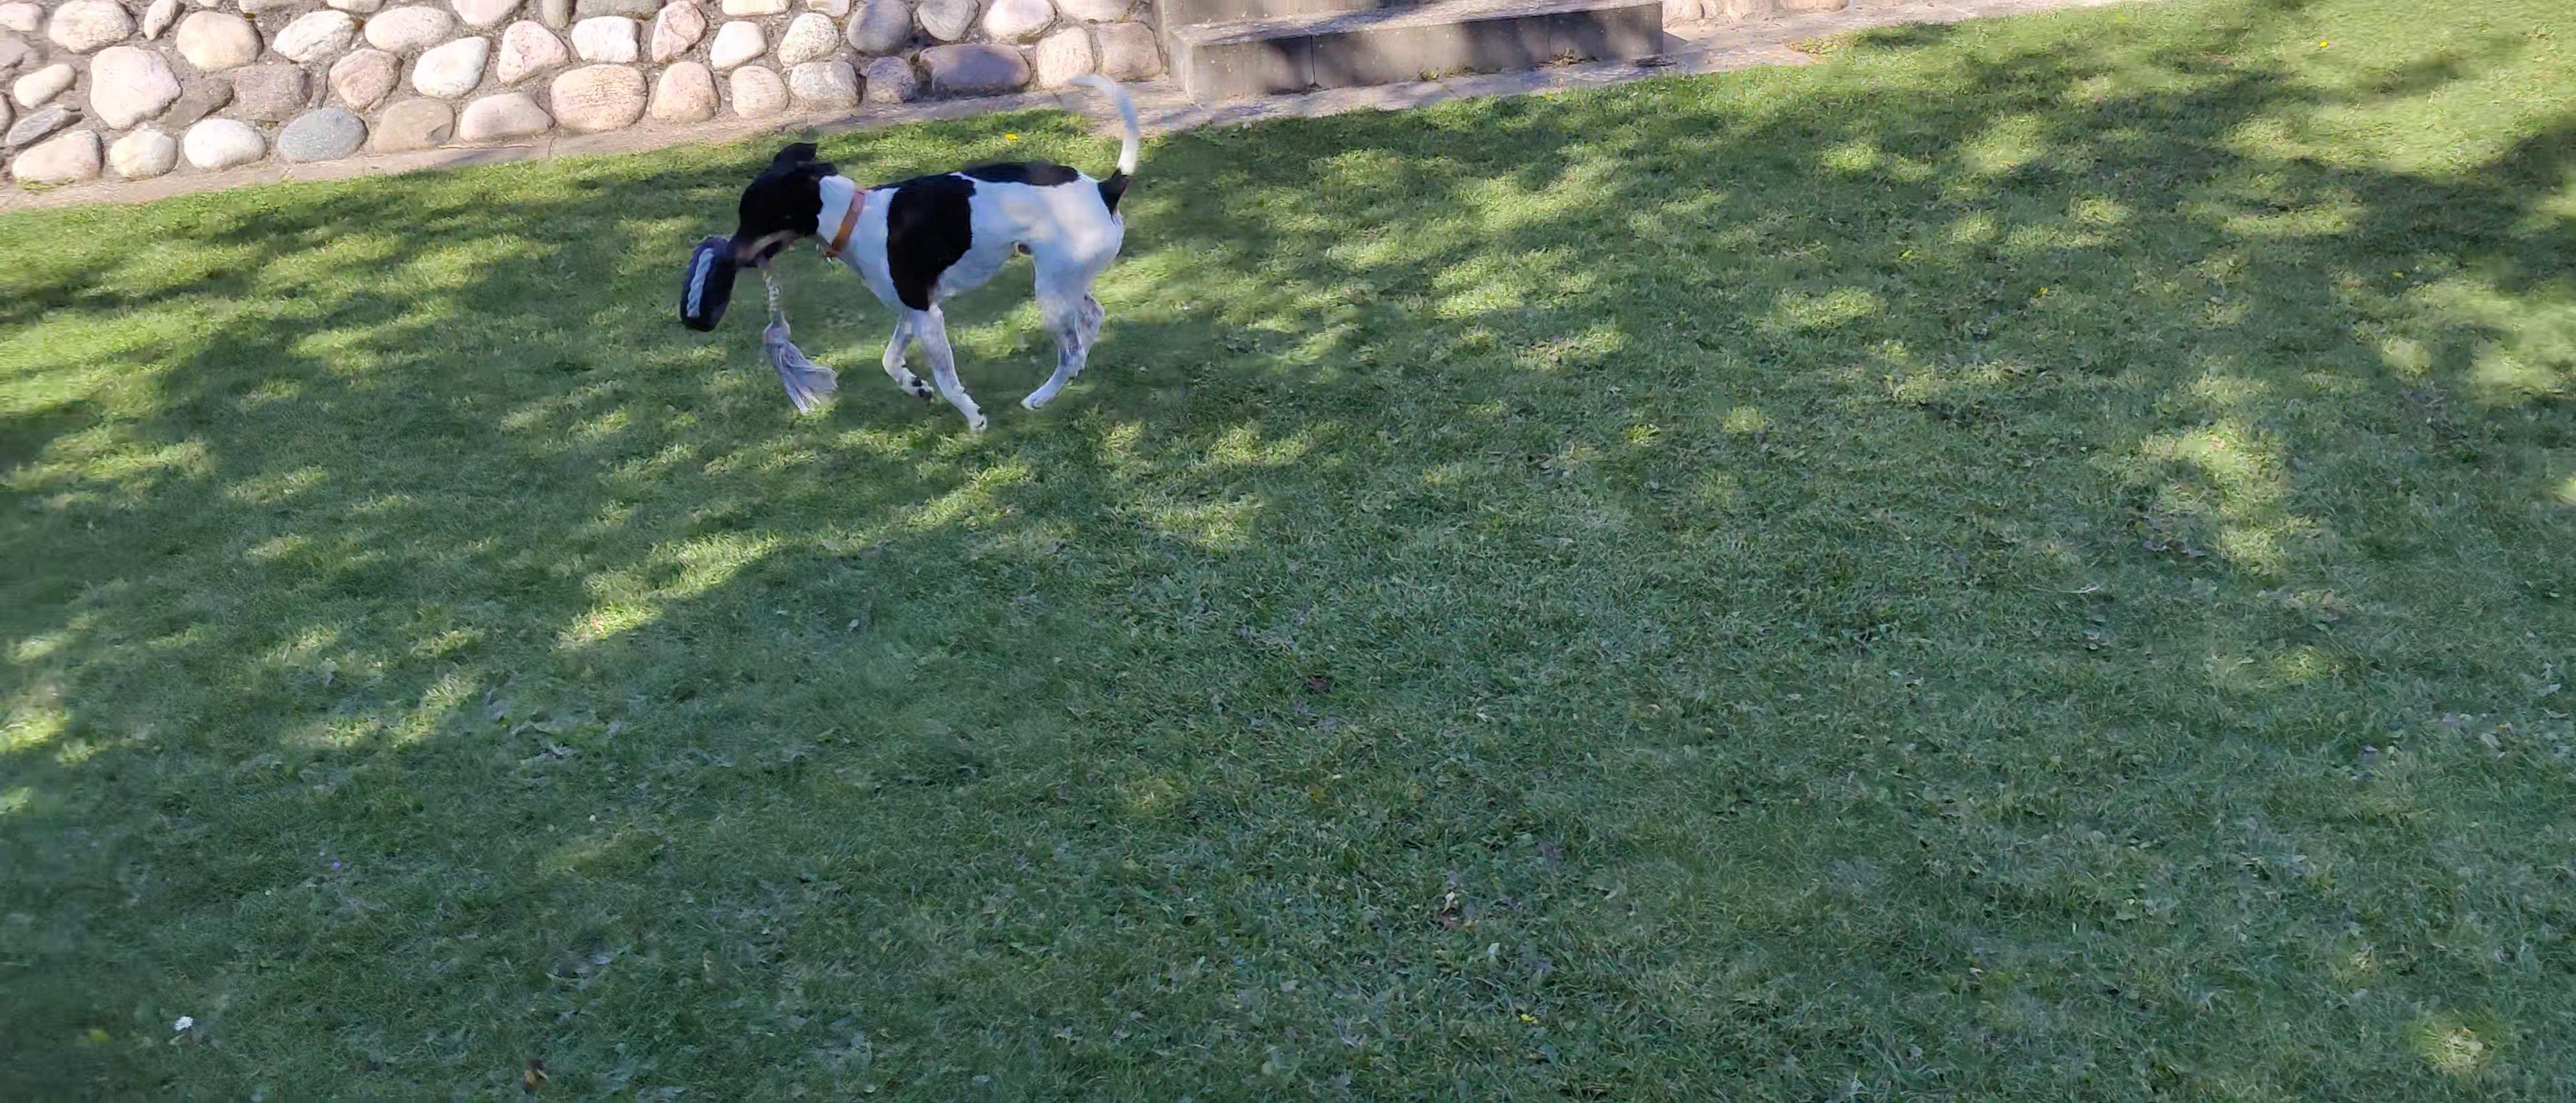Dog: (720, 66, 1161, 432)
